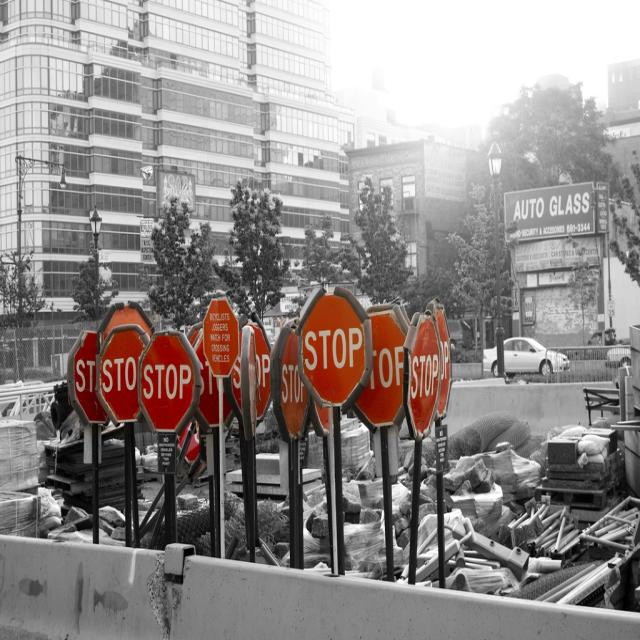Stop-sign: (65, 284, 452, 466), (295, 288, 369, 434)
